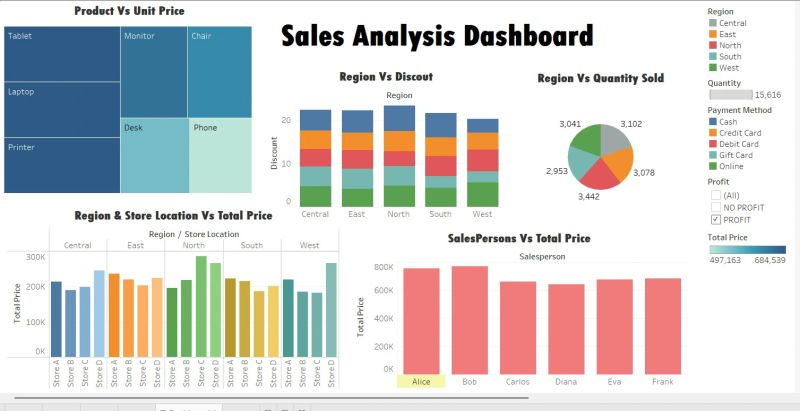

Layout of this report page (visuals, bound fields, positions):
{"tool":"tableau","page":{"name":"Dashboard 1","canvas":[1500,1440],"ordinal":0},"visuals":[{"type":"worksheet","title":"Sheet 3","mark":"Automatic","box":[6,3,475,366]},{"type":"legend","title":"Sheet 1","param":"[federated.09o4a2q0vh6oqj1efxuos1rcqc9j].[none:Region:nk]","box":[1332,8,160,135]},{"type":"text","box":[528,30,874,75]},{"type":"worksheet","title":"Sheet 2","mark":"Automatic","rows":["Discount"],"cols":["Region"],"box":[508,127,444,289]},{"type":"worksheet","title":"Sheet 1","mark":"Pie","box":[951,130,367,291]},{"type":"legend","title":"Sheet 1","param":"[federated.09o4a2q0vh6oqj1efxuos1rcqc9j].[sum:Quantity:qk]","box":[1332,143,160,51]},{"type":"legend","title":"Sheet 2","param":"[federated.09o4a2q0vh6oqj1efxuos1rcqc9j].[none:PaymentMethod:nk]","box":[1332,194,160,135]},{"type":"filter","title":"Sheet 6","param":"[federated.09o4a2q0vh6oqj1efxuos1rcqc9j].[none:Calculation_1146447627695124483:n","box":[1332,329,160,105]},{"type":"worksheet","title":"Sheet 7","mark":"Automatic","rows":["TotalPrice"],"cols":["Region","StoreLocation"],"box":[17,389,625,346]},{"type":"worksheet","title":"Sheet 6","mark":"Automatic","rows":["TotalPrice"],"cols":["Salesperson"],"box":[664,432,634,300]},{"type":"legend","title":"Sheet 3","param":"[federated.09o4a2q0vh6oqj1efxuos1rcqc9j].[sum:TotalPrice:qk]","box":[1332,434,160,73]}]}

Visuals, with their boxes on the page's 1500x1440 design canvas (x1, y1, x2, y2). These are canvas units, not pixel positions in the 800x411 screenshot, which may show the page scaled, cropped or inside an application window:
"Sheet 3" worksheet: [left=6, top=3, right=481, bottom=369]
"Sheet 1" legend: [left=1332, top=8, right=1492, bottom=143]
text: [left=528, top=30, right=1402, bottom=105]
"Sheet 2" worksheet: [left=508, top=127, right=952, bottom=416]
"Sheet 1" worksheet (Pie marks): [left=951, top=130, right=1318, bottom=421]
"Sheet 1" legend: [left=1332, top=143, right=1492, bottom=194]
"Sheet 2" legend: [left=1332, top=194, right=1492, bottom=329]
"Sheet 6" filter: [left=1332, top=329, right=1492, bottom=434]
"Sheet 7" worksheet: [left=17, top=389, right=642, bottom=735]
"Sheet 6" worksheet: [left=664, top=432, right=1298, bottom=732]
"Sheet 3" legend: [left=1332, top=434, right=1492, bottom=507]
